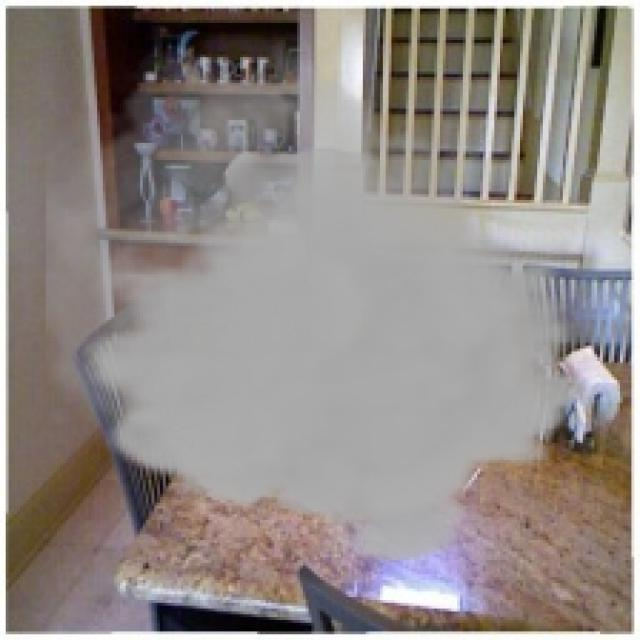smoke: (46, 31, 586, 568)
